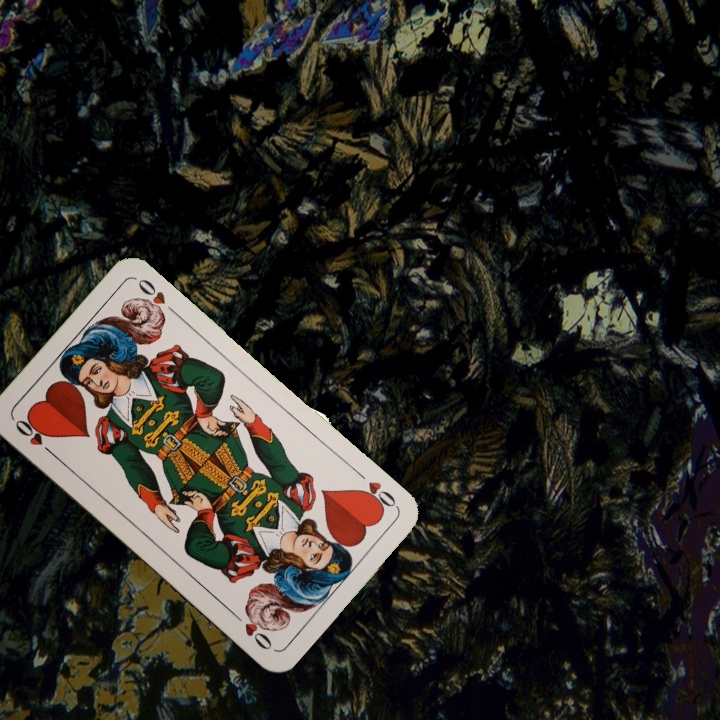HO: (352, 466, 400, 515), (11, 414, 58, 460)
